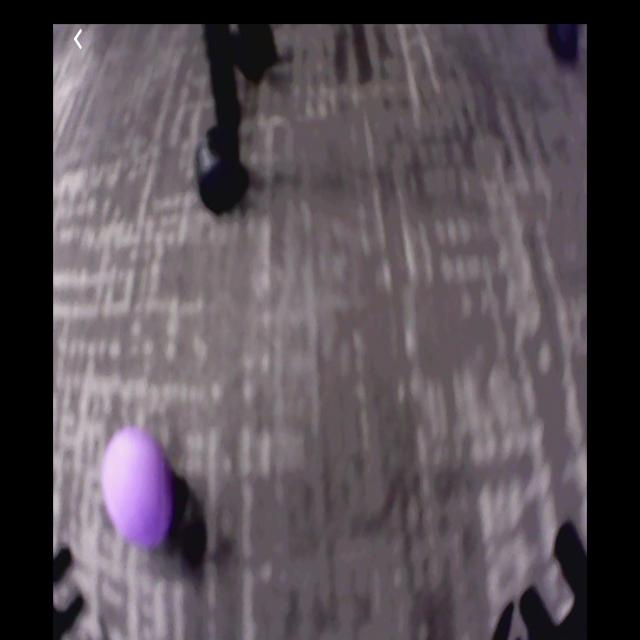ball: (102, 426, 178, 546)
